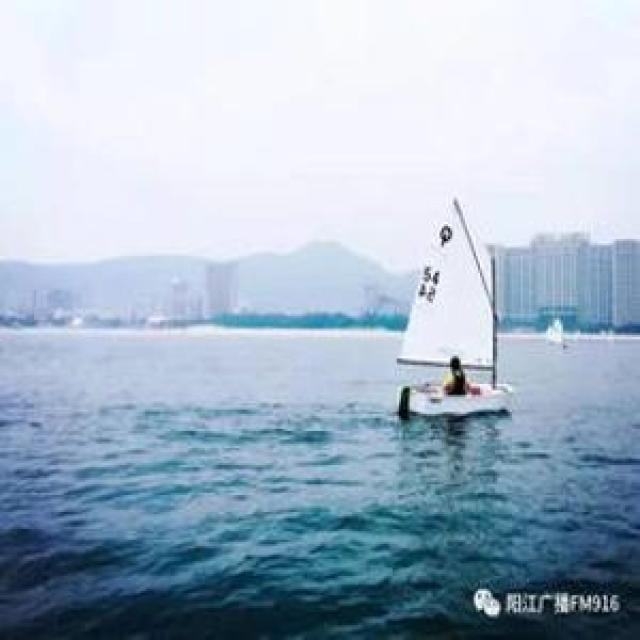sailboat: (386, 188, 528, 438)
